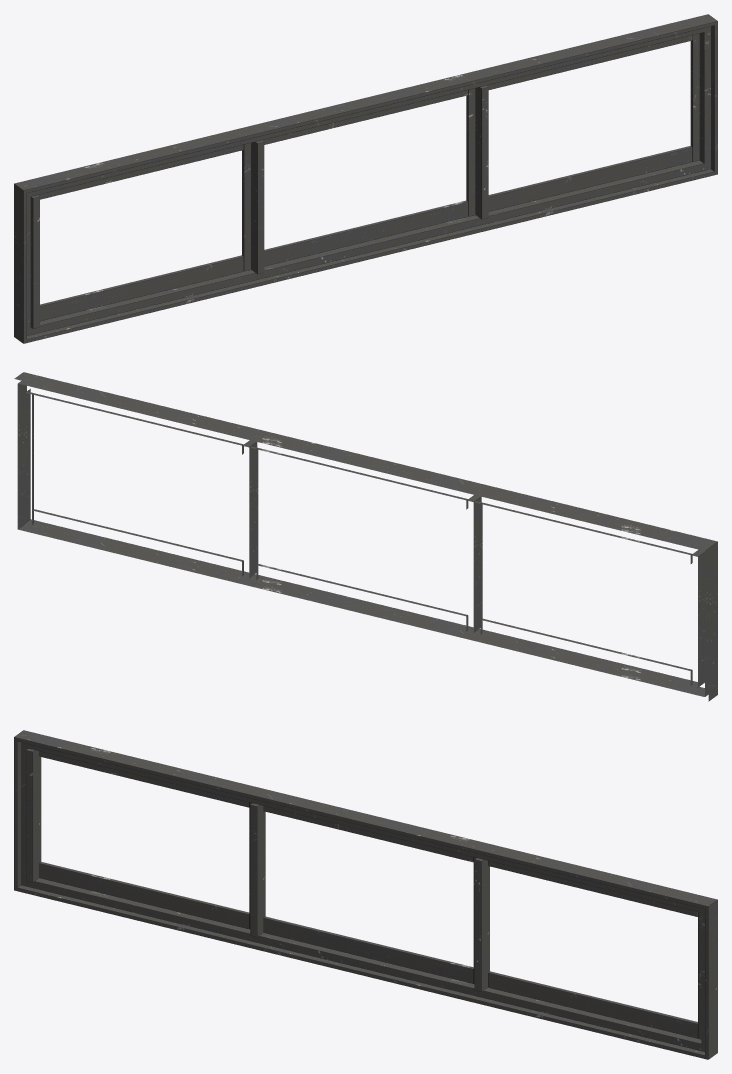
The model's file is Unity2Skfb.gltf.
3 views of the same model, one above another, from view 1: azimuth 30°, elevation 25°; view 2: azimuth 150°, elevation 25°; view 3: azimuth 330°, elevation 25° (orthographic).
Visible parts, largest first — view 1: node_Frames_Exterior00_-1682; view 2: node_Frames_Exterior00_-1682; view 3: node_Frames_Exterior00_-1682.
Part boxes in pixels (x1=…): node_Frames_Exterior00_-1682: x1=14, y1=14, x2=717, y2=343; node_Frames_Exterior00_-1682: x1=14, y1=372, x2=717, y2=701; node_Frames_Exterior00_-1682: x1=14, y1=730, x2=717, y2=1059.
Size of the model in its own units: 3.87 by 0.8172 by 0.0916.
Materials: 1 (1 with a texture image).
